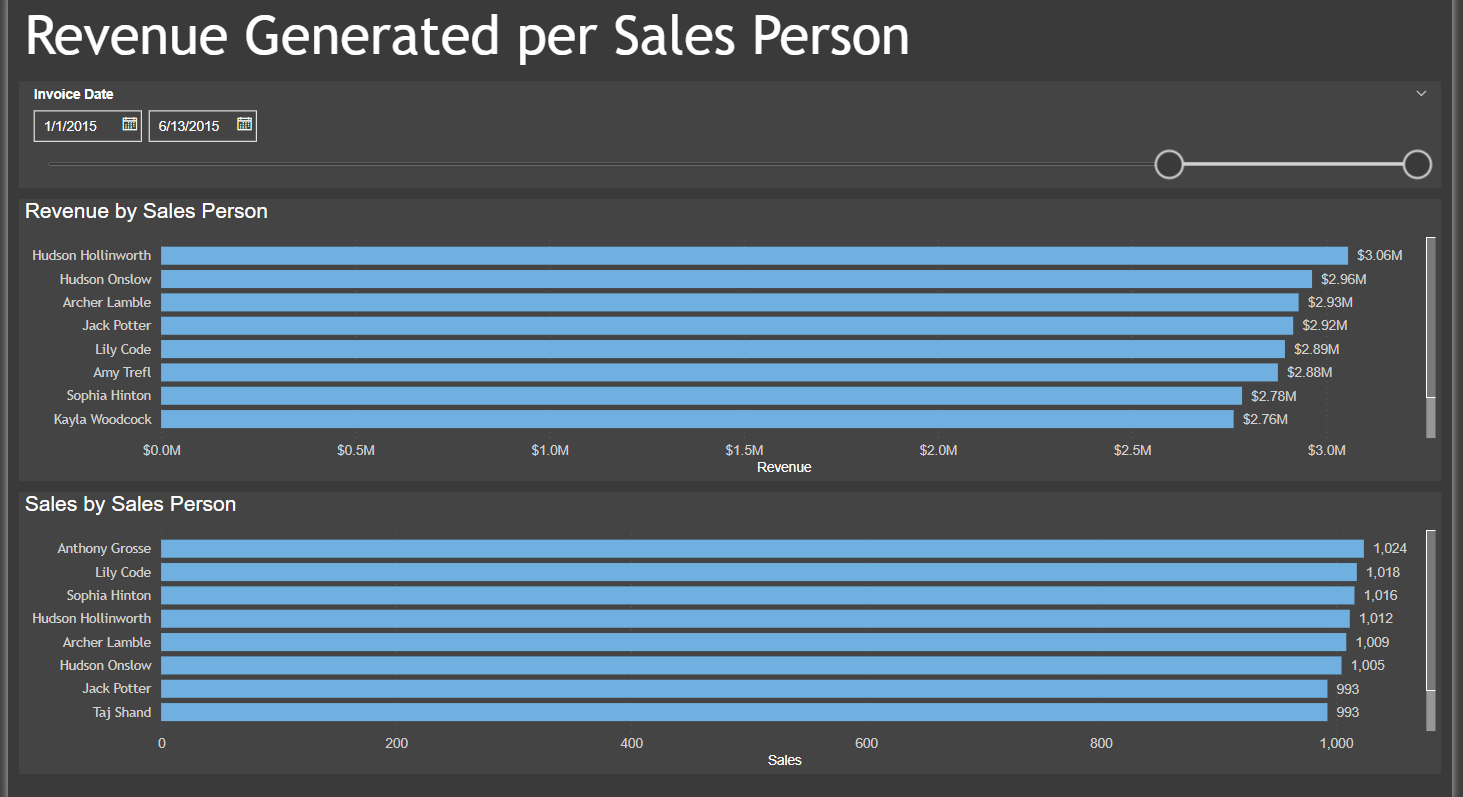

The page's visual inventory and layout, read from the dashboard file:
{"tool":"powerbi","page":{"name":"Sales-person Performance","canvas":[1280,720],"ordinal":2},"visuals":[{"type":"textbox","box":[9.8,7.1,1260.9,73.6],"z":0},{"type":"slicer","fields":{"Values":["DailySalesData.InvoiceDate"]},"box":[9.8,80.7,1260.9,94.9],"z":1000},{"type":"clusteredBarChart","fields":{"Y":["DailySalesData.Revenue"],"Category":["DailySalesData.SalesPerson"]},"box":[9.8,185.3,1260.9,250],"z":2000},{"type":"clusteredBarChart","fields":{"Category":["DailySalesData.SalesPerson"],"Y":["DailySalesData.Sales"]},"box":[9.8,445.1,1260.9,250],"z":3000}]}

Visuals, with their boxes on the page's 1280x720 design canvas (x1, y1, x2, y2). These are canvas units, not pixel positions in the 1463x797 screenshot, which may show the page scaled, cropped or inside an application window:
textbox: {"x1": 10, "y1": 7, "x2": 1271, "y2": 81}
slicer - DailySalesData.InvoiceDate: {"x1": 10, "y1": 81, "x2": 1271, "y2": 176}
clusteredBarChart - DailySalesData.Revenue x DailySalesData.SalesPerson: {"x1": 10, "y1": 185, "x2": 1271, "y2": 435}
clusteredBarChart - DailySalesData.SalesPerson x DailySalesData.Sales: {"x1": 10, "y1": 445, "x2": 1271, "y2": 695}
